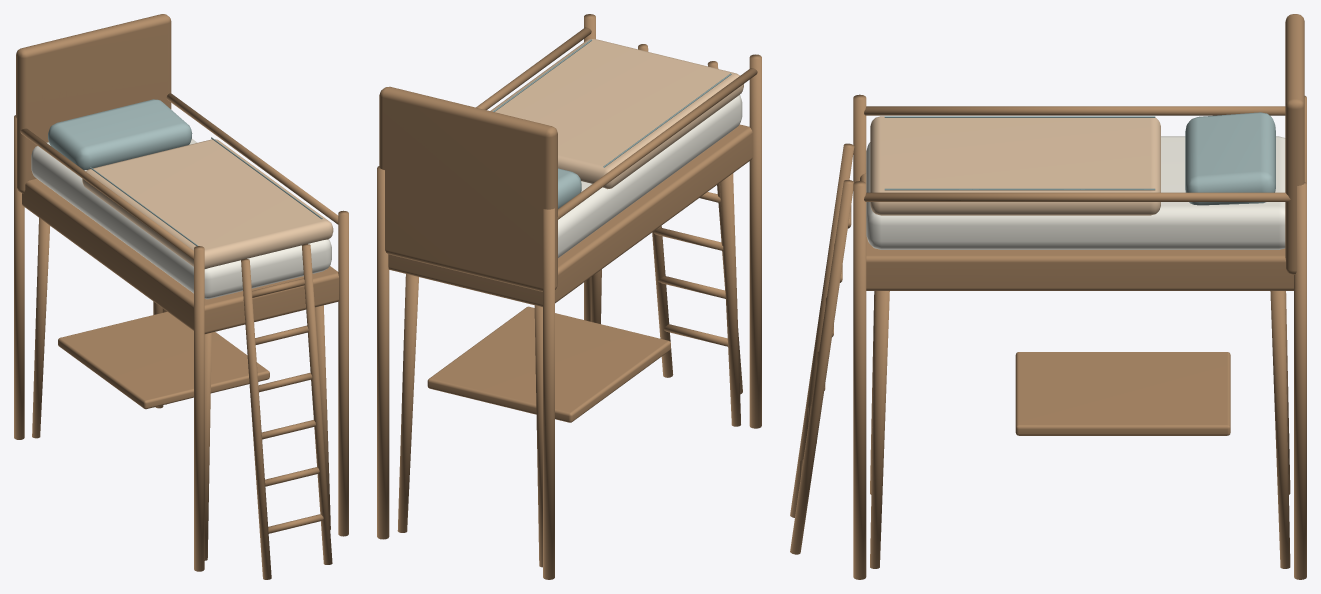
Rendered from atelier-loft-bed.glb.
3 renders of one model, left to right at view 1: azimuth 30°, elevation 25°; view 2: azimuth 150°, elevation 25°; view 3: azimuth 270°, elevation 25°, orthographic. The views are drawn at different scales.
Visible parts, largest first — view 1: legs.028, bedding.005, ceramic.005, fabric.031, seams.030; view 2: legs.028, bedding.005, ceramic.005, fabric.031, seams.030; view 3: legs.028, bedding.005, ceramic.005, fabric.031, seams.030.
Part boxes in pixels (box(x1,y1,x2,y2)): legs.028: box(14, 14, 348, 579); bedding.005: box(82, 139, 333, 268); ceramic.005: box(31, 139, 331, 299); fabric.031: box(48, 99, 192, 170); seams.030: box(89, 137, 322, 246); legs.028: box(377, 14, 761, 579); bedding.005: box(490, 38, 743, 189); ceramic.005: box(558, 95, 742, 257); fabric.031: box(558, 168, 581, 208); seams.030: box(493, 39, 731, 167); legs.028: box(790, 14, 1306, 579); bedding.005: box(870, 116, 1160, 215); ceramic.005: box(866, 136, 1285, 249); fabric.031: box(1185, 112, 1275, 205); seams.030: box(884, 116, 1155, 190).
Bounding box in the file's own units: 1.01 × 2.45 × 2.4.
